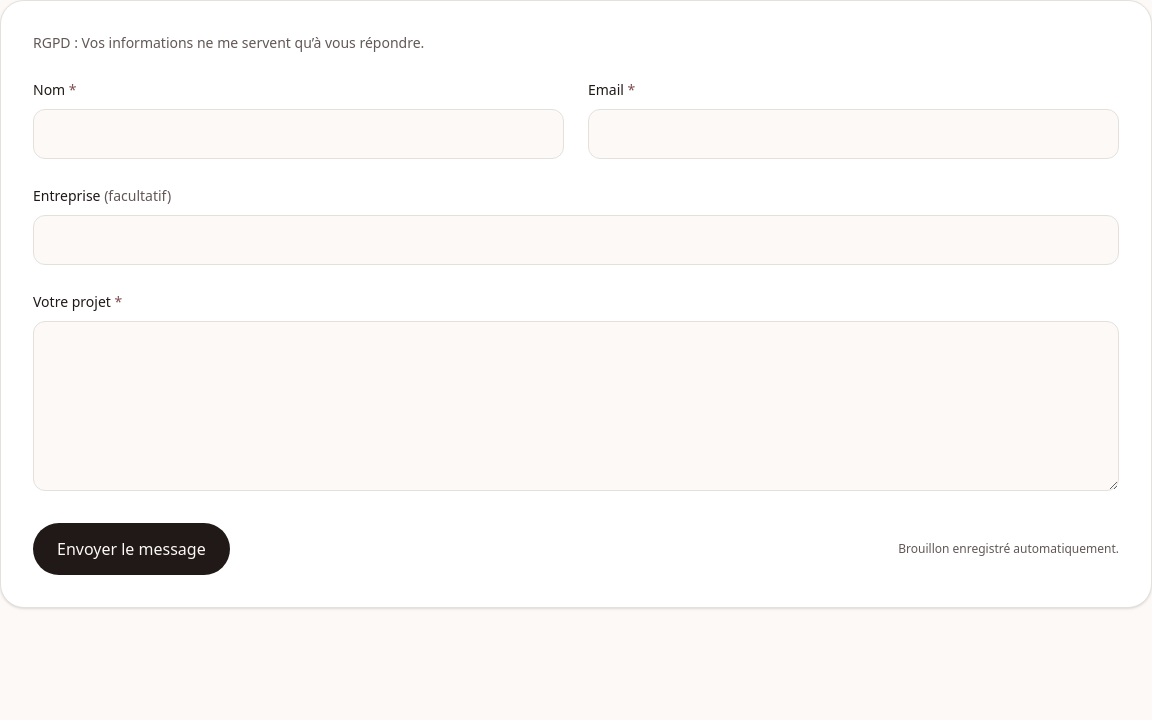
Test: ContactForm › reports errors, links them to their fields and focuses the first invalid field
Click the button "Envoyer le message": coordinates (131, 549) 33,523 -> 230,575
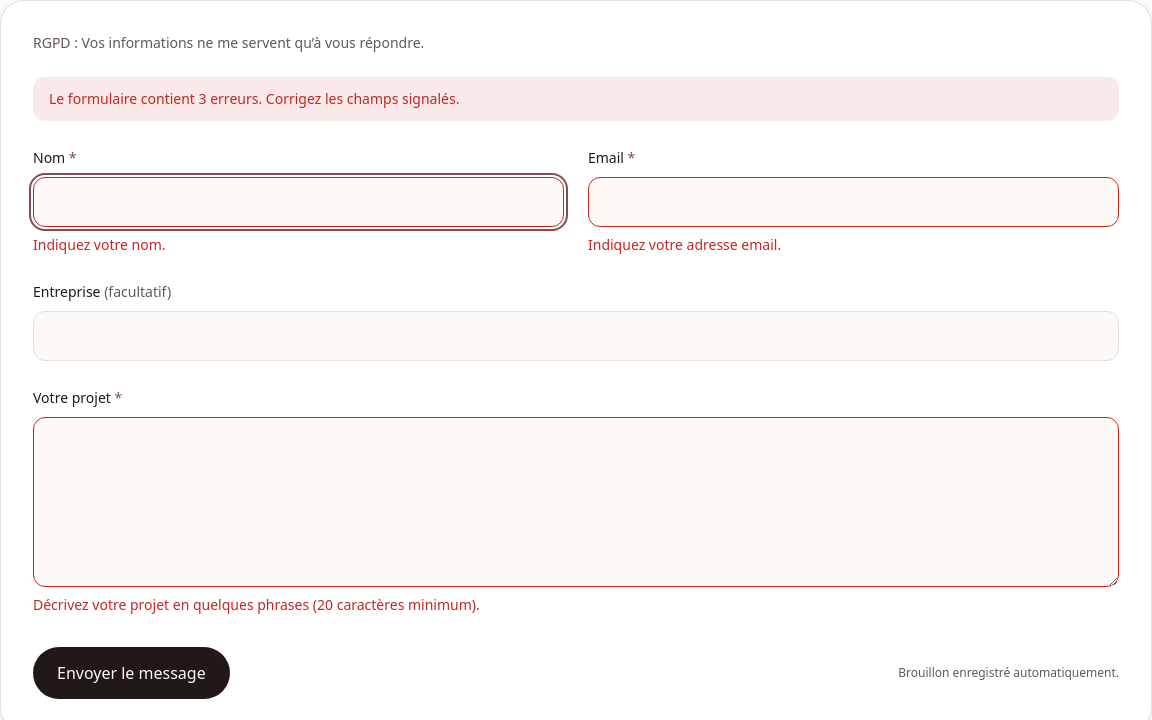
Result: the message shows "Le formulaire contient 3 erreurs." at 49,89 -> 262,108
